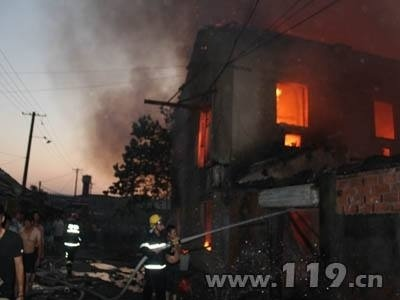fire: (273, 81, 310, 144), (373, 98, 397, 143), (201, 235, 214, 251)
